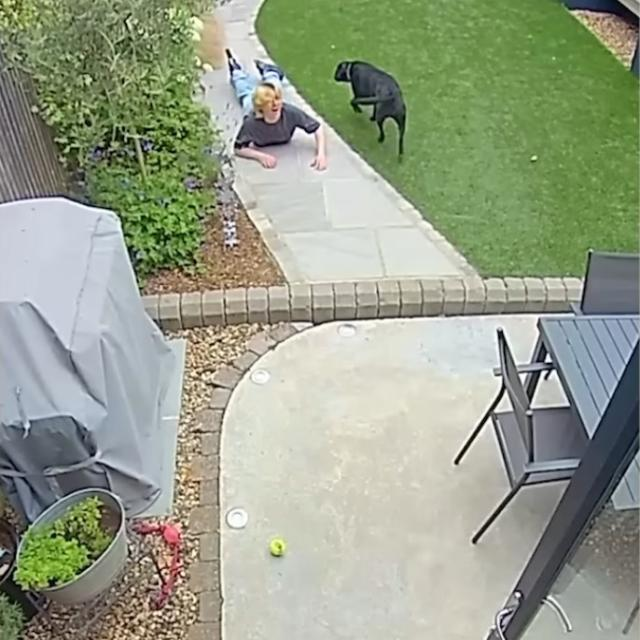fallen: (227, 48, 326, 170)
